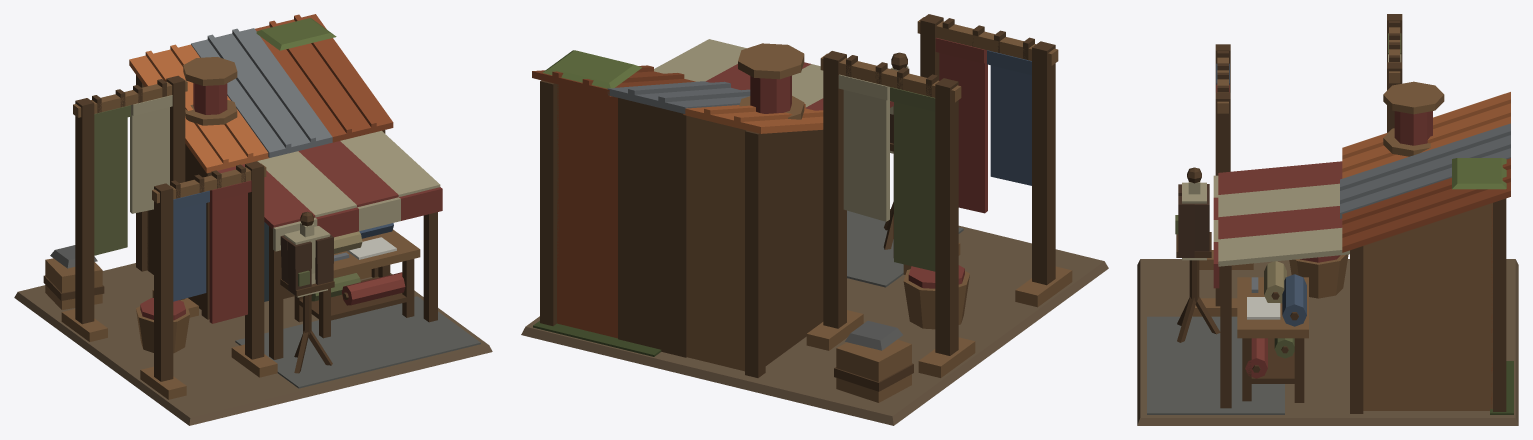
File: tailor_l1.glb
The picture shows the model from 3 angles, left to right: view 1: azimuth 30°, elevation 25°; view 2: azimuth 150°, elevation 25°; view 3: azimuth 270°, elevation 25°; orthographic projection. The views are drawn at different scales.
Parts seen in each view (by area): view 1: tailor_roof, tailor_structure, tailor_props; view 2: tailor_structure, tailor_roof, tailor_props; view 3: tailor_structure, tailor_roof, tailor_props.
Part boxes in pixels (left/top/right/bottom): tailor_roof: left=94, top=14, right=442, bottom=323; tailor_structure: left=14, top=75, right=492, bottom=425; tailor_props: left=43, top=57, right=420, bottom=373; tailor_structure: left=521, top=14, right=1108, bottom=425; tailor_roof: left=532, top=38, right=1031, bottom=271; tailor_props: left=738, top=18, right=1034, bottom=402; tailor_structure: left=1137, top=14, right=1518, bottom=425; tailor_roof: left=1213, top=33, right=1510, bottom=288; tailor_props: left=1175, top=20, right=1444, bottom=402.
Size of the model in its own units: 4 by 2.97 by 4.
